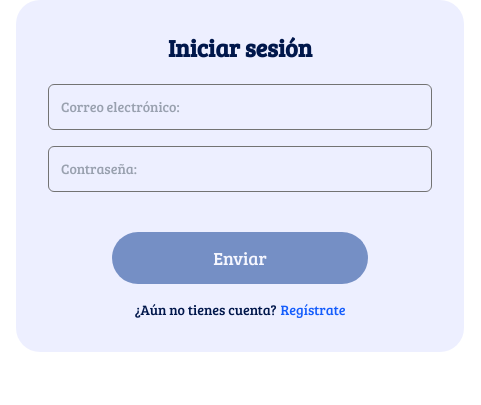
Test case: LoginForm › debería renderizar errores de validación si el email no cumple el formato
This screenshot has width=481, height=405.
Expected: the text "Correo inválido" is not shown
Type "123" into the field with placeholder "Correo electrónico:" at (240, 107), box [48,84,432,130]
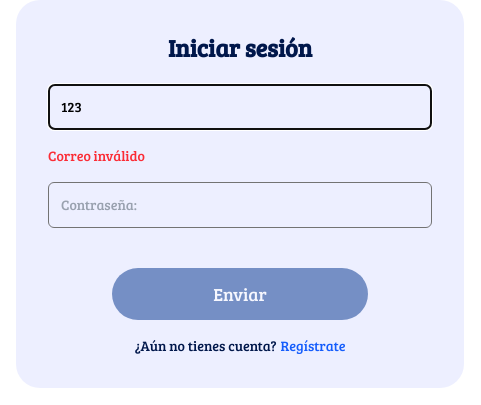
Now the text "Correo inválido" is shown, box [48,146,145,165]
